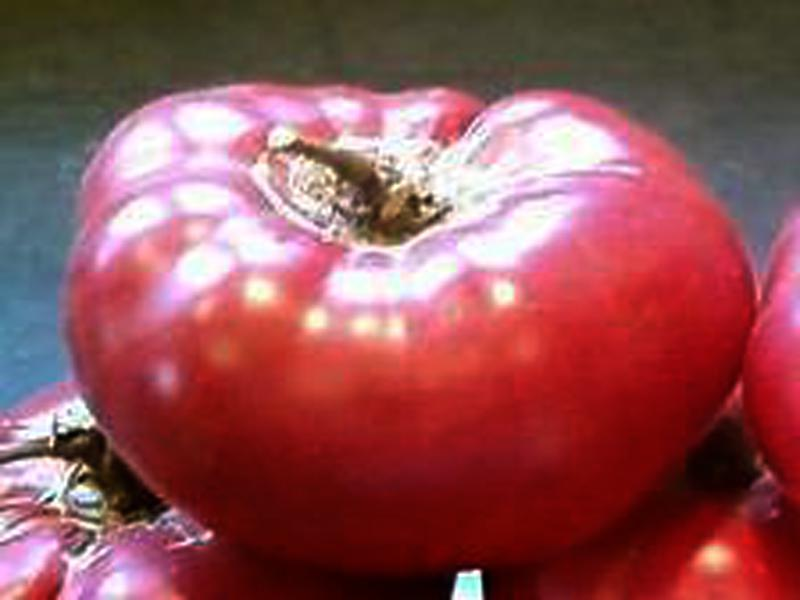Tomato: (61, 82, 761, 573)
